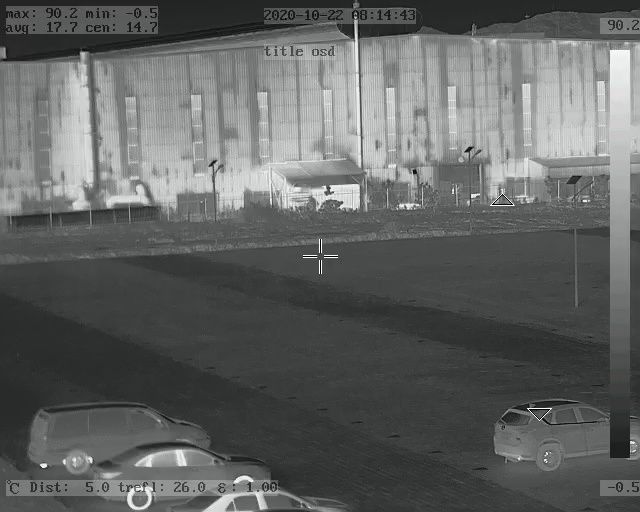vehicle: (28, 396, 209, 468), (93, 435, 262, 511), (484, 403, 636, 470), (172, 481, 341, 512)
